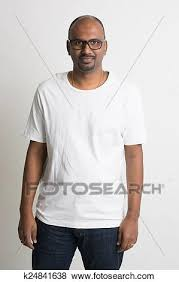Indian_Male: (68, 8, 107, 77)
